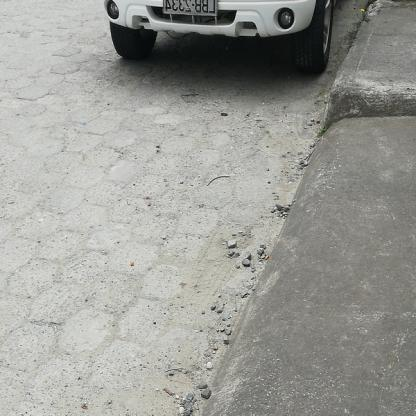Placa: (158, 0, 218, 21)
